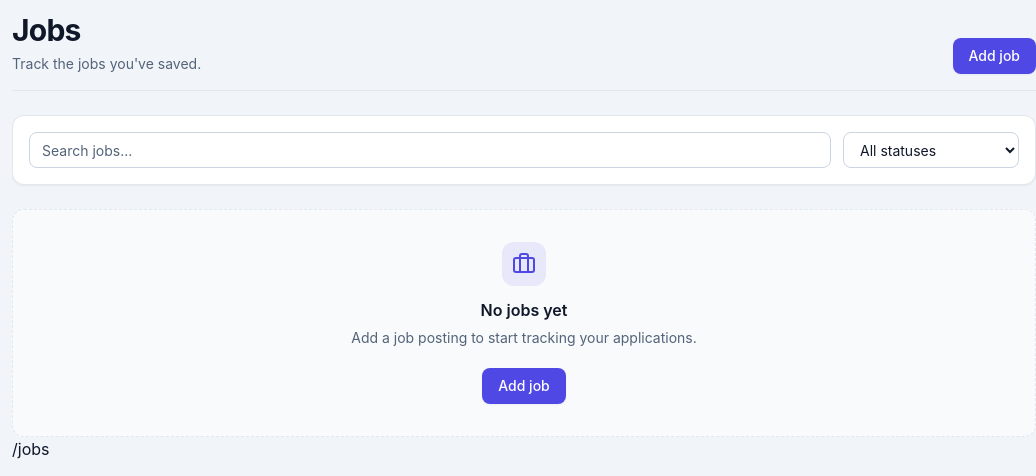
Test case: JobsPage › shows a filtered empty state with a clear-filters action
Type "zzz" into the search field labelled "Search jobs" at [430, 150], box x1=29 y1=132 x2=831 y2=168
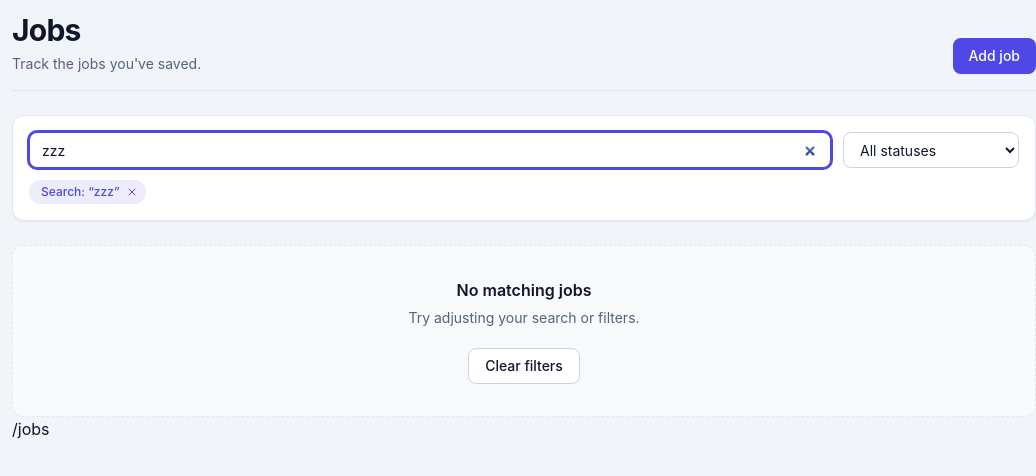
Now the heading "No matching jobs" is shown, box x1=457 y1=280 x2=591 y2=300
Click the button "Clear filters" at [524, 366], box x1=468 y1=348 x2=580 y2=384
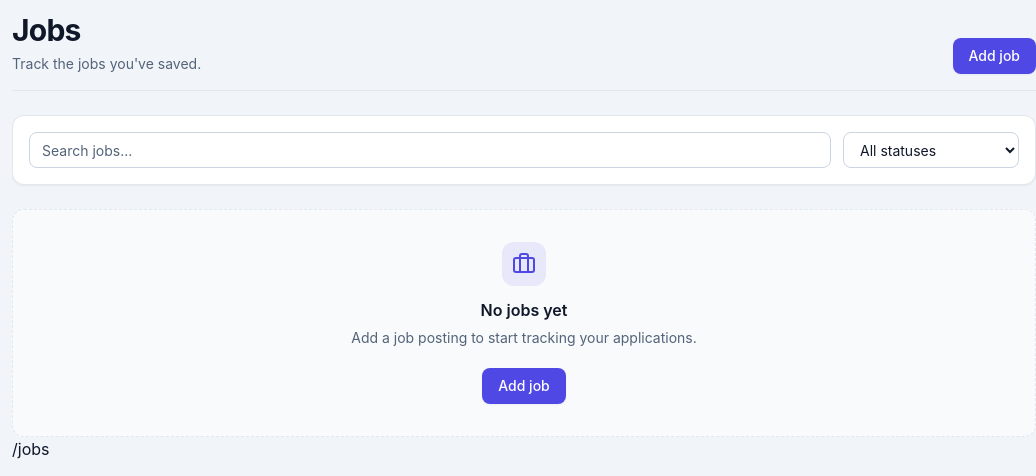
Now the search field labelled "Search jobs" is empty, box x1=29 y1=132 x2=831 y2=168
Now the heading "No jobs yet" is shown, box x1=480 y1=300 x2=567 y2=320
